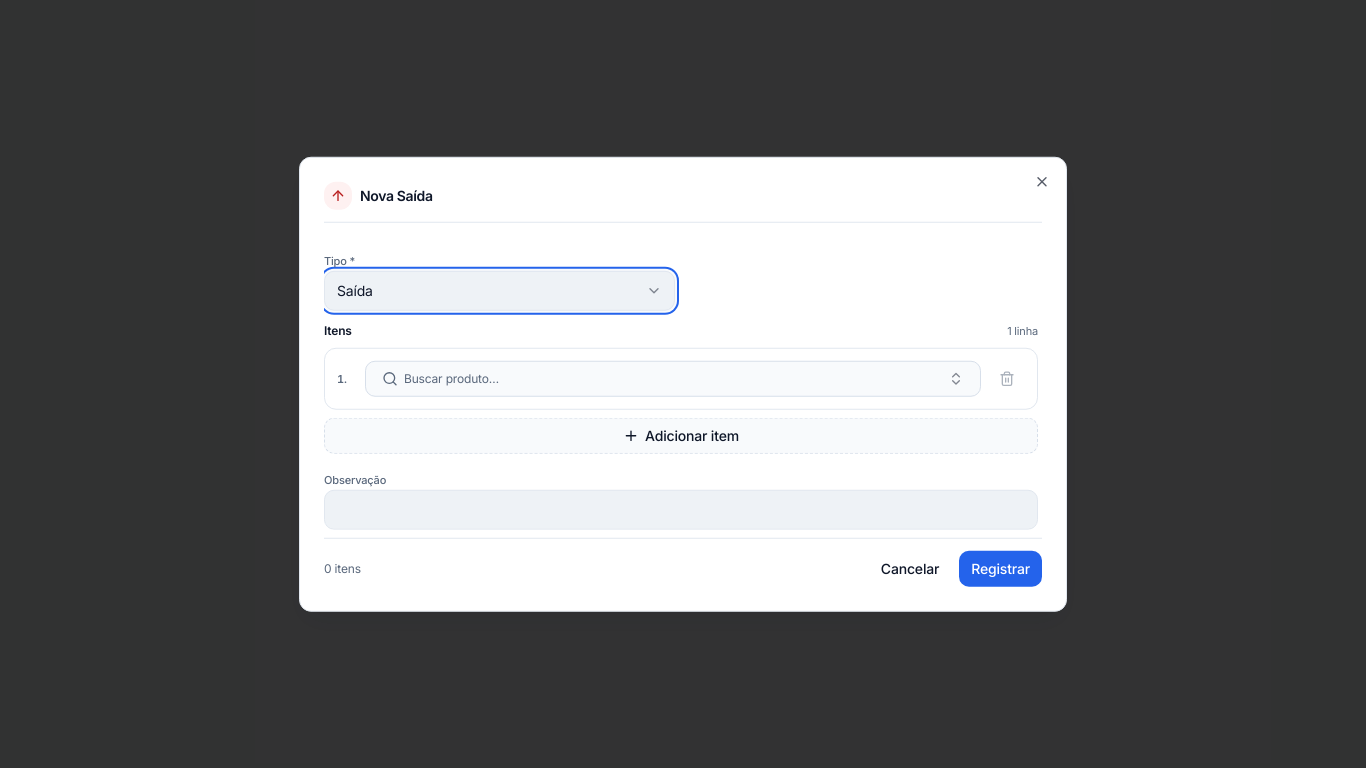
Test: NovaMovimentacaoModal › keeps at least one line: remove is disabled when only one remains
Check: the button named "Remover item 1" is disabled, box [989,360,1025,396]
Click the button "Adicionar item" at point(681, 435), box [324,417,1038,453]
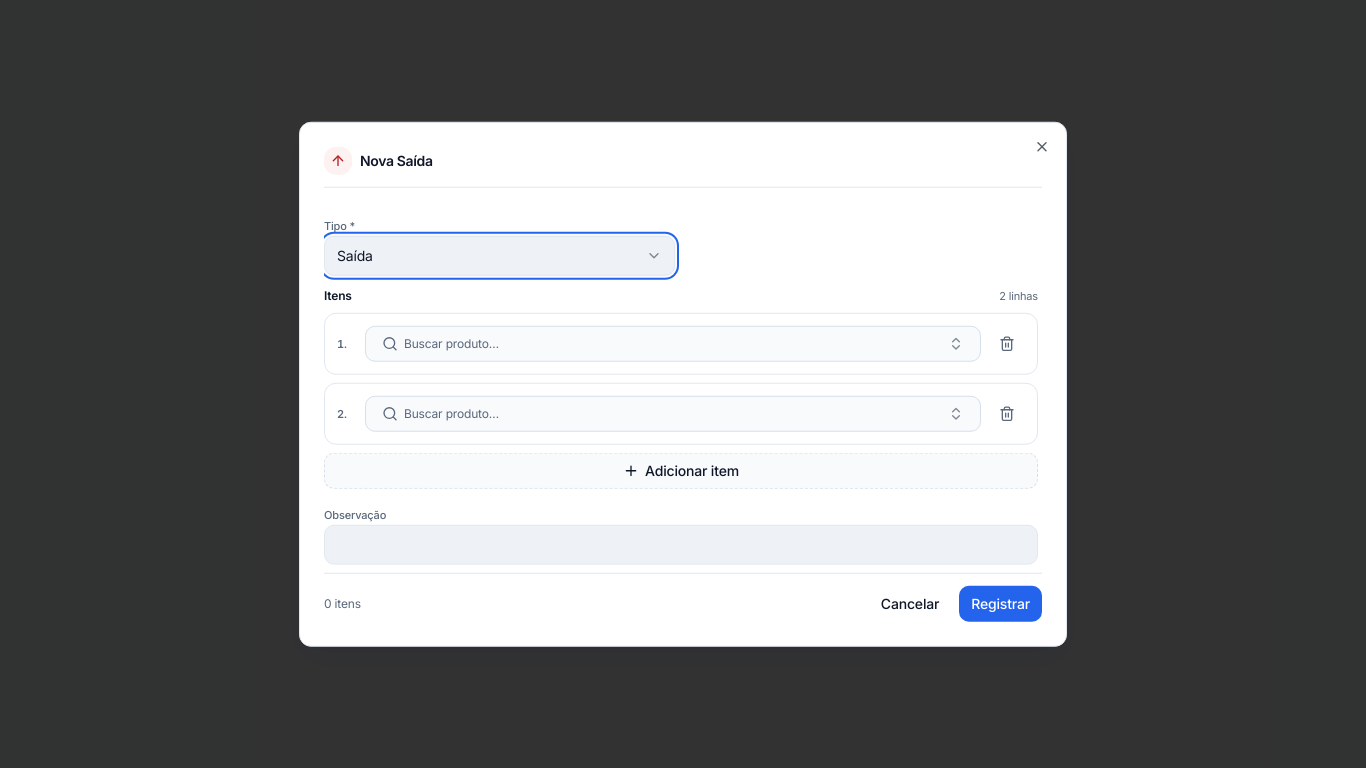
Click the button named "Remover item 2" at point(1007, 413), box [989,395,1025,431]
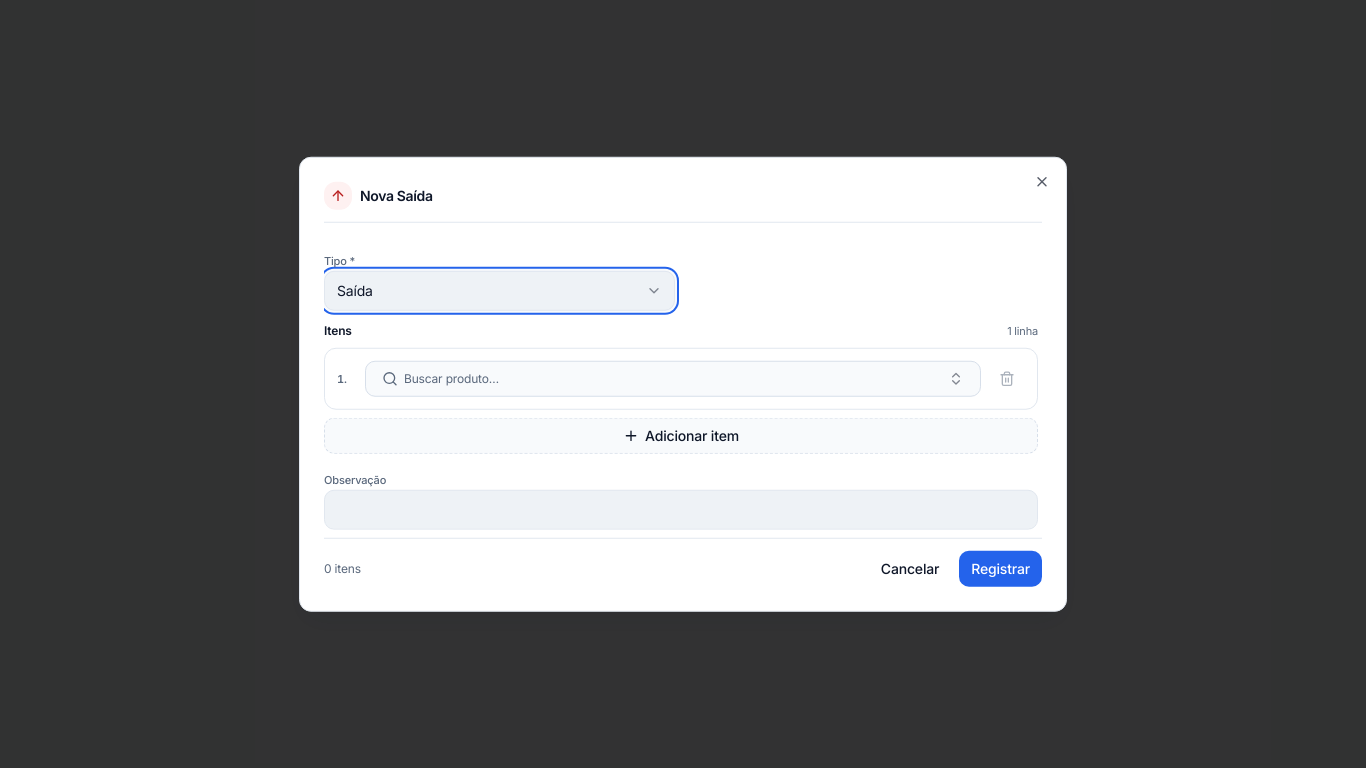
Check: the number of buttons named "Remover item" is 1, box [989,360,1025,396]
